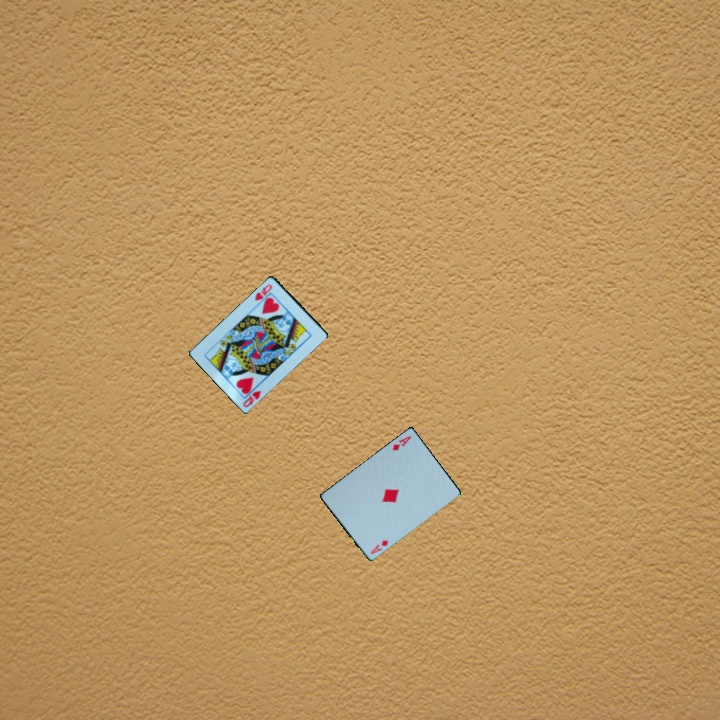Ad: (389, 433, 414, 454), (367, 537, 391, 557)
Qh: (251, 280, 275, 304), (239, 387, 264, 410)
